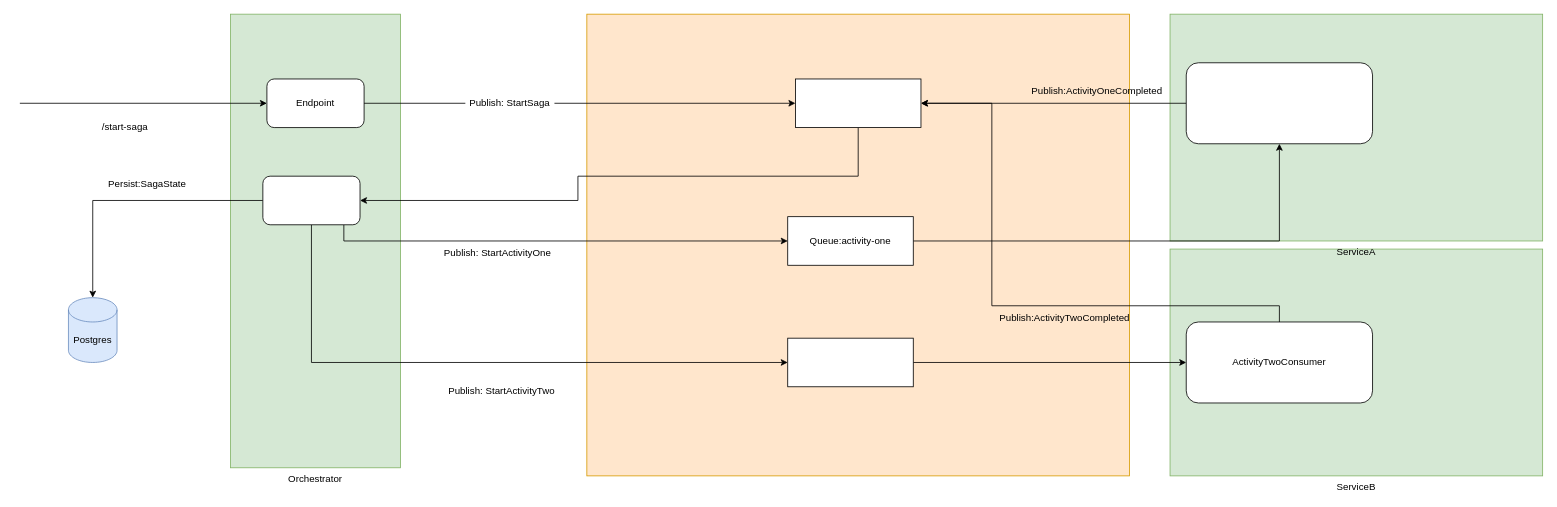
Some shapes in this 1557 by 507 pixel diagram are drawn without their labels. Each missing label, with the centre of its shape:
"ActivityOneConsumer" belongs at (x=1279, y=103).
"Queue:activity-two" belongs at (x=850, y=362).
"Queue:saga-state" belongs at (x=858, y=103).
"SagaStateMachine" belongs at (x=311, y=200).
